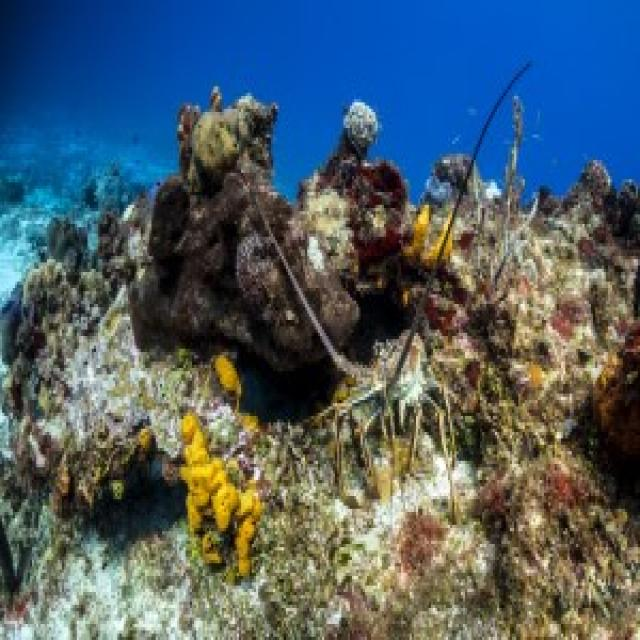lobsters: (275, 226, 640, 640)
